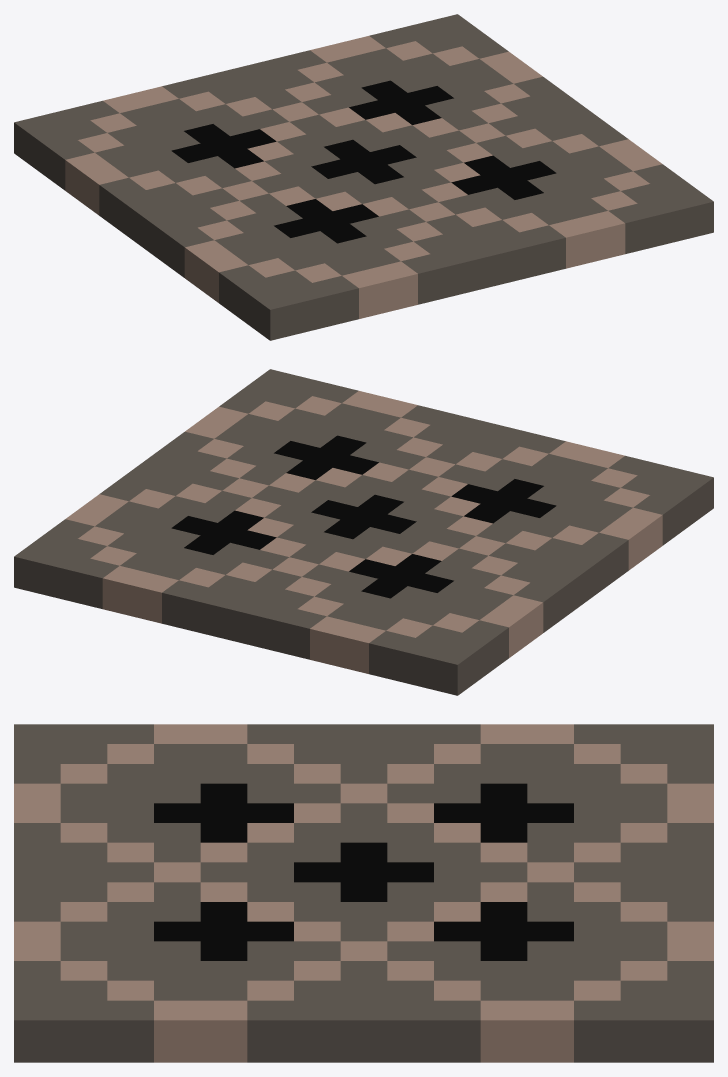
Rendered from dungeon_a_a_ground_d_b.obj.
The picture shows the model from 3 angles, top to bottom: view 1: azimuth 30°, elevation 25°; view 2: azimuth 150°, elevation 25°; view 3: azimuth 270°, elevation 25°; orthographic projection. The views are drawn at different scales.
Size of the model in its own units: 1.5 by 0.1 by 1.5.
Materials: 1 (1 with a texture image).
